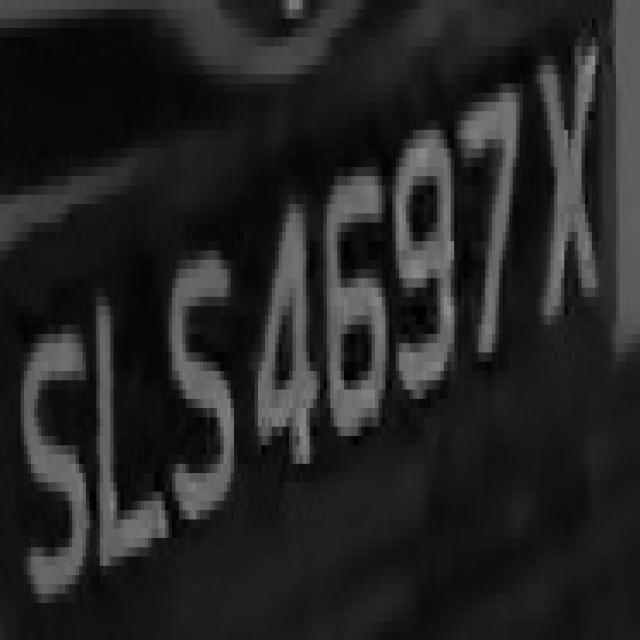4: (227, 148, 317, 529)
6: (310, 167, 396, 473)
7: (440, 56, 523, 408)
9: (375, 112, 454, 446)
L: (68, 232, 168, 594)
S: (145, 223, 251, 538), (0, 269, 93, 621)
X: (534, 0, 620, 371)
